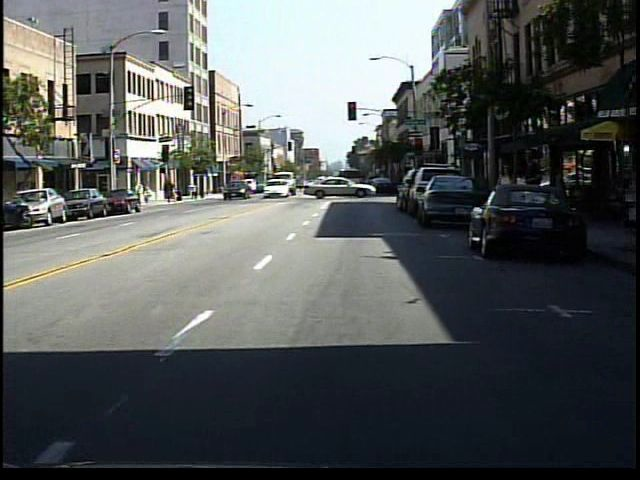person: (514, 148, 544, 244), (496, 156, 519, 238), (144, 181, 157, 207)
